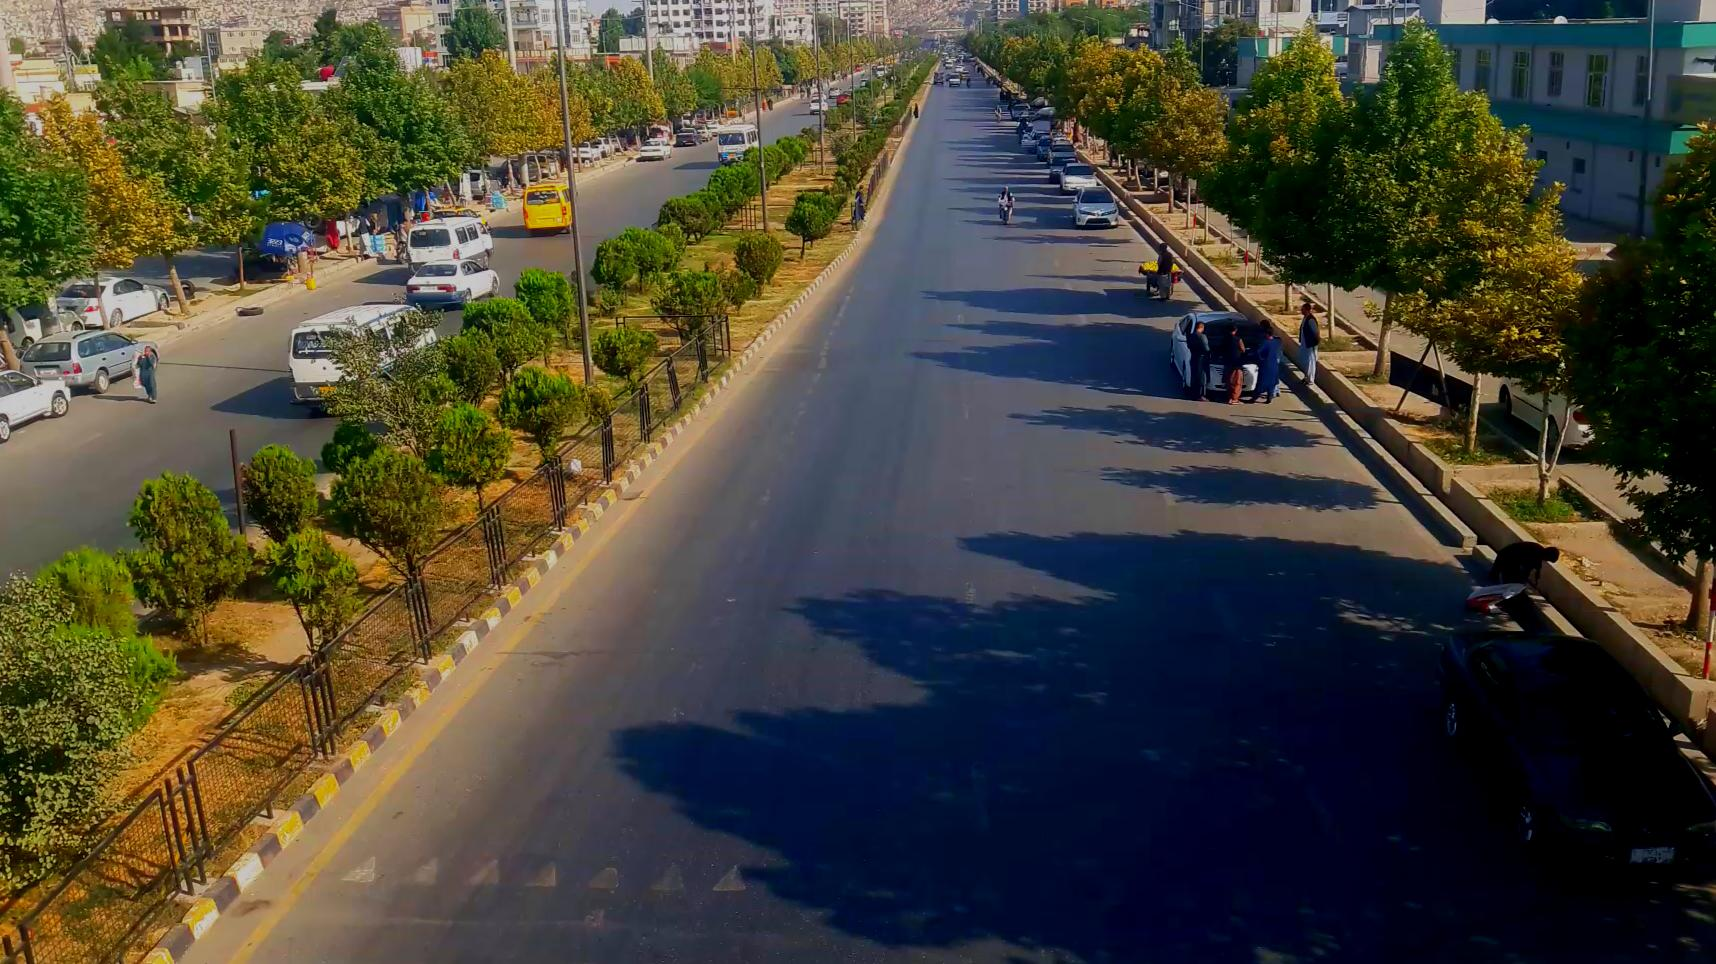bike: (994, 185, 1016, 223)
bus: (289, 298, 435, 414), (522, 185, 574, 232)
car: (1430, 630, 1707, 874), (12, 334, 153, 400), (0, 374, 65, 445), (405, 263, 497, 313), (1074, 198, 1120, 226)
truck: (407, 220, 499, 277)
